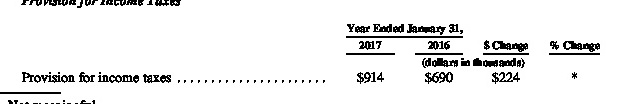table: (0, 0, 628, 104)
